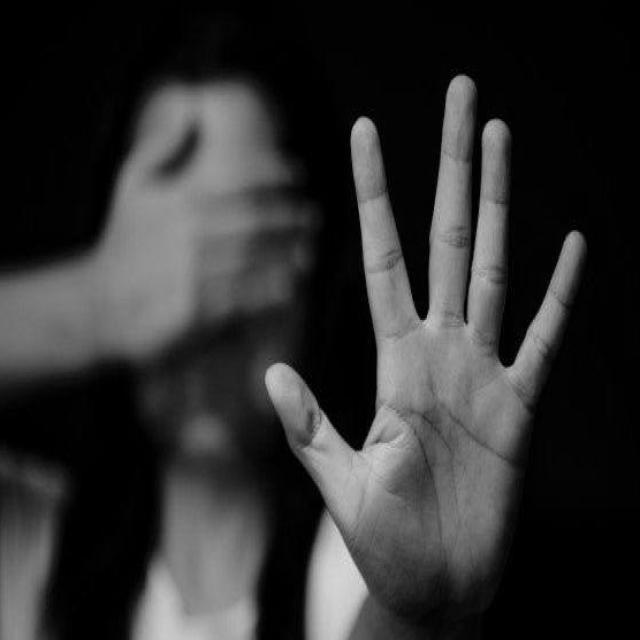stop: (257, 65, 590, 640)
